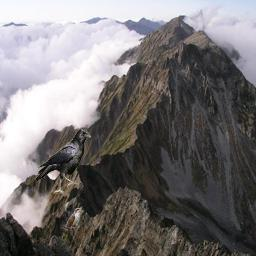Crow: (35, 128, 92, 194)
Cuckoo: (60, 208, 82, 245)
